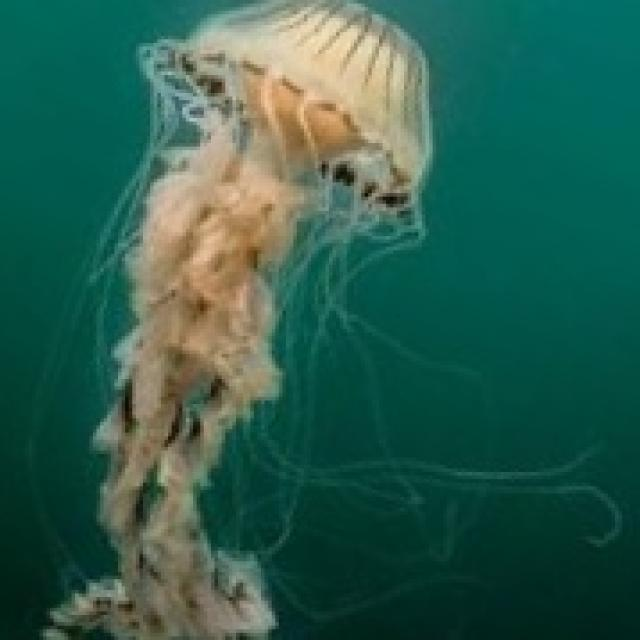Box-jellyfish: (25, 0, 622, 636)
